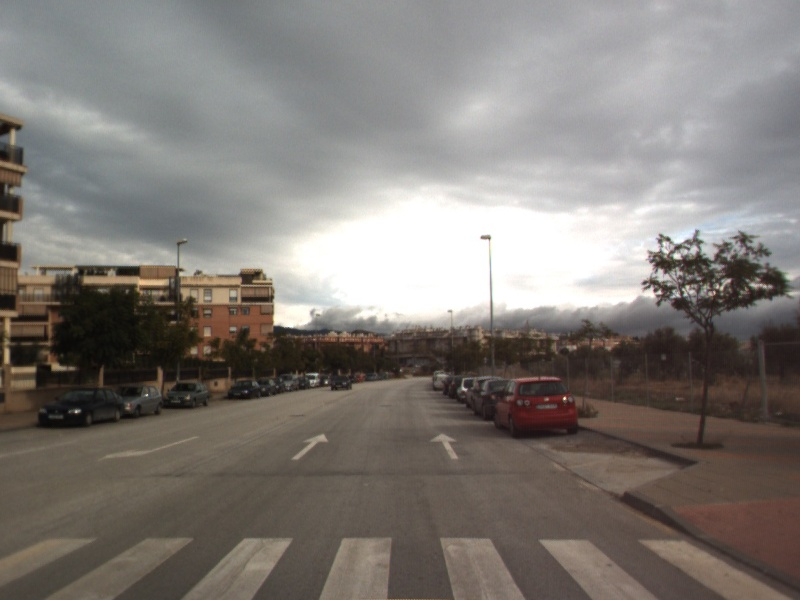STRAIGHT: (290, 432, 330, 462), (428, 431, 461, 461)
